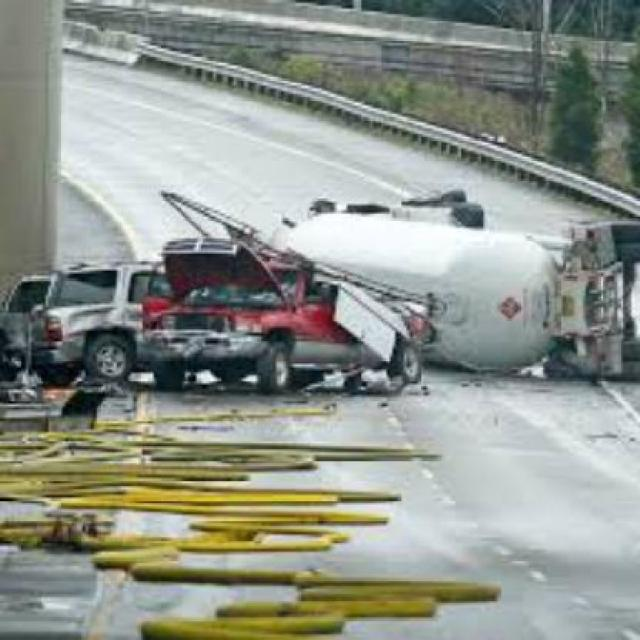accident: (1, 190, 640, 398)
